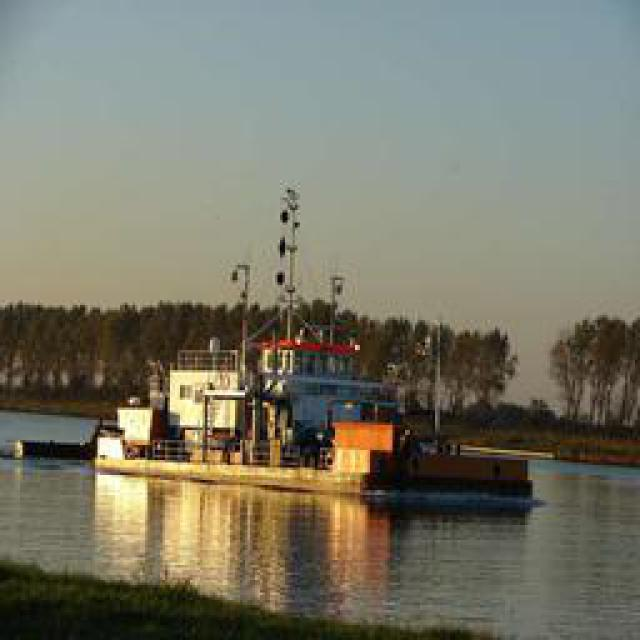Ship: (74, 346, 552, 511)
